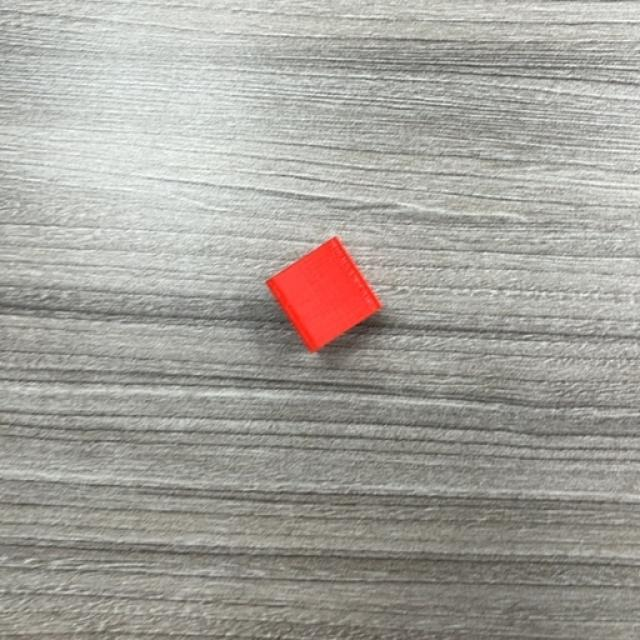Rojo: (265, 236, 384, 352)
